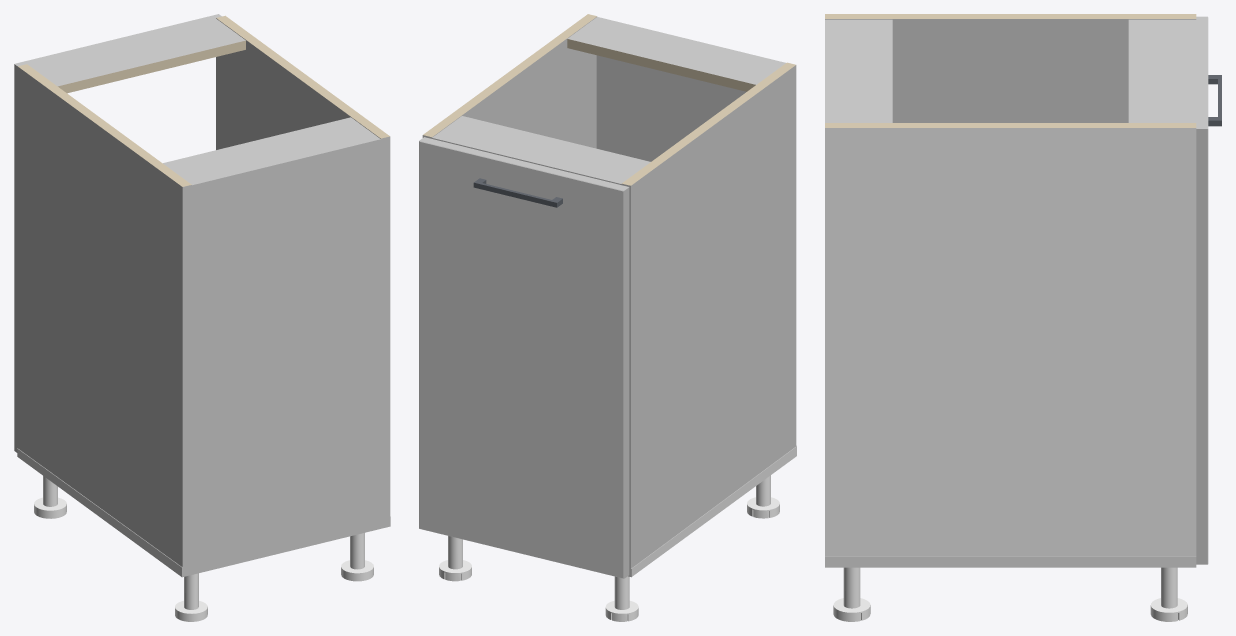
3 renders of one model, left to right at view 1: azimuth 30°, elevation 25°; view 2: azimuth 150°, elevation 25°; view 3: azimuth 270°, elevation 25°, orthographic. The views are drawn at different scales.
Visible parts, largest first — view 1: Group1, Group2; view 2: Group1, Group2; view 3: Group1, Group2.
Boxes of the visible parts, x1,y1,x2,y2 form: Group1: [14, 14, 390, 577]; Group2: [34, 476, 373, 621]; Group1: [419, 14, 796, 578]; Group2: [439, 475, 779, 621]; Group1: [825, 14, 1221, 567]; Group2: [833, 567, 1187, 621].
Bounding box in the file's own units: 402 × 813 × 588.
